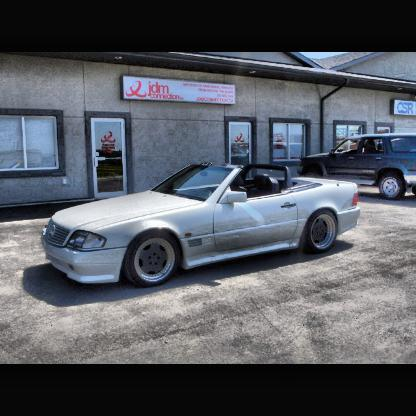Mercedes-Benz 300-Class Convertible 1993: (42, 159, 363, 291)
